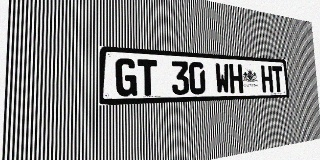0: (189, 62, 205, 94)
3: (171, 61, 189, 95)
G: (115, 58, 137, 97)
H: (229, 64, 243, 93), (261, 65, 273, 92)
T: (137, 59, 157, 96), (272, 66, 284, 92)
W: (215, 63, 230, 94)
